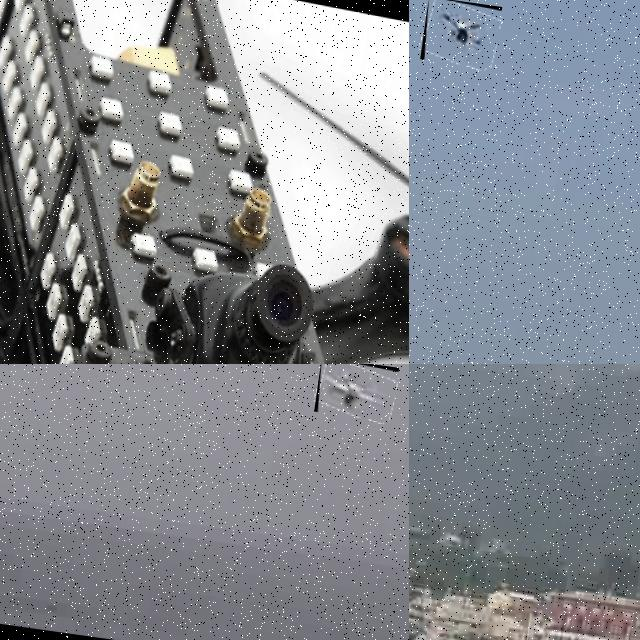drone: (0, 0, 409, 364), (420, 0, 502, 69), (314, 364, 399, 422)
